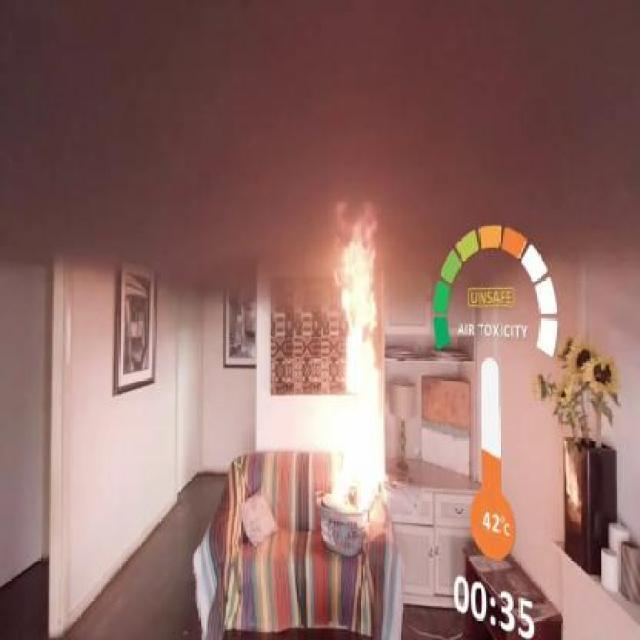fire: (332, 216, 382, 549)
smoke: (90, 16, 541, 213)
